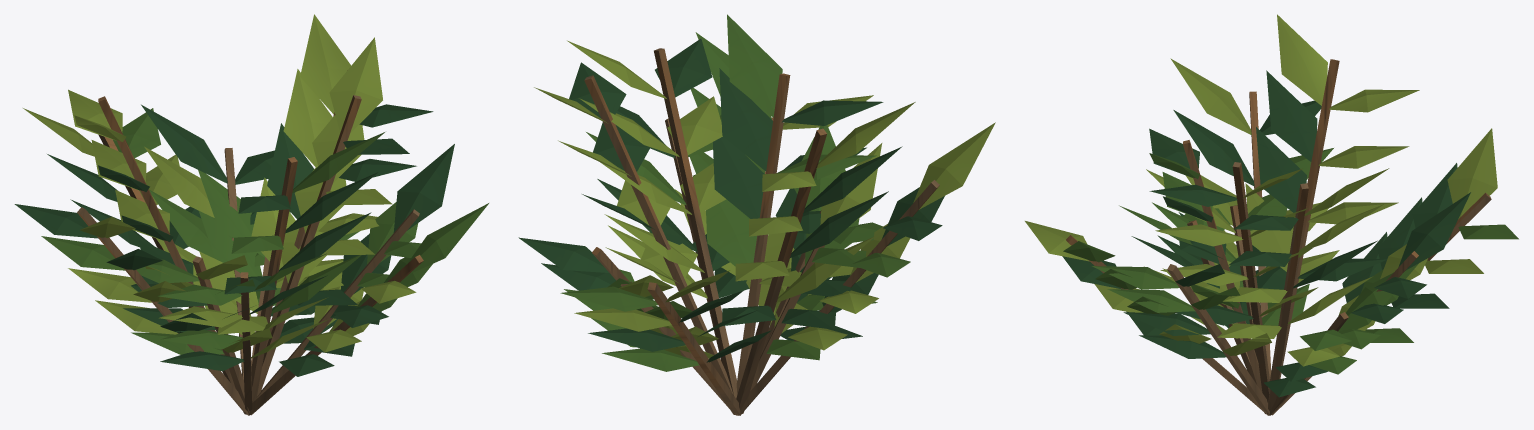
Rendered from b14_shrub.fbx.
3 renders of one model, left to right at view 1: azimuth 30°, elevation 25°; view 2: azimuth 150°, elevation 25°; view 3: azimuth 270°, elevation 25°, orthographic. The views are drawn at different scales.
Visible parts, largest first — view 1: b14_shrub; view 2: b14_shrub; view 3: b14_shrub.
Part boxes in pixels (x1,y1,x2,y2): b14_shrub: (14, 14, 488, 415); b14_shrub: (518, 14, 995, 415); b14_shrub: (1025, 14, 1518, 415).
Size of the model in its own units: 7756 by 9165 by 6553.
